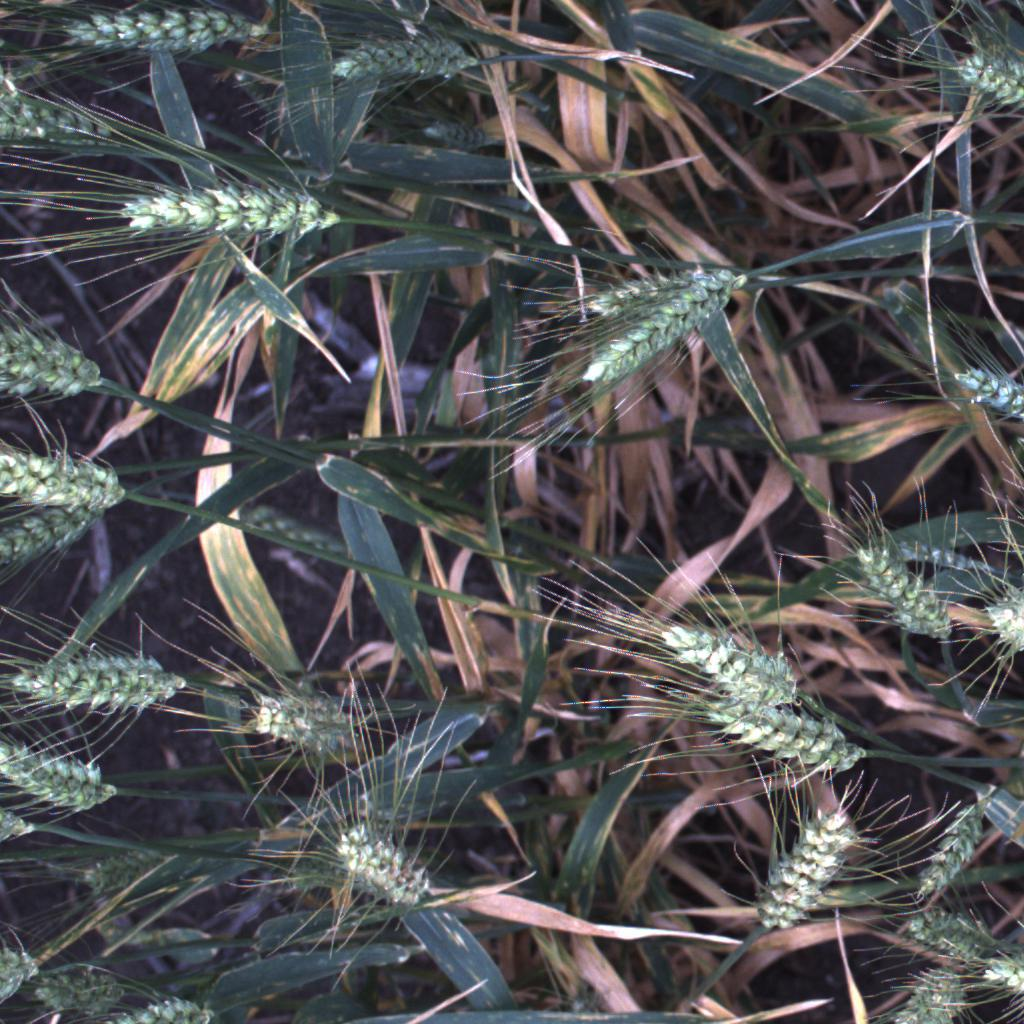0-0: (568, 268, 756, 393), (101, 173, 354, 246), (37, 0, 291, 72), (651, 606, 812, 713), (1, 636, 198, 720), (690, 687, 874, 773), (0, 302, 125, 421), (318, 814, 447, 922), (838, 536, 961, 648), (758, 805, 856, 935), (0, 435, 139, 524), (569, 262, 758, 325), (318, 27, 507, 86), (236, 680, 377, 758), (0, 732, 128, 817), (892, 889, 1024, 964), (23, 949, 142, 1023), (0, 93, 134, 153), (940, 344, 1024, 439), (0, 494, 112, 565), (947, 33, 1024, 115), (915, 813, 980, 906), (891, 955, 970, 1024), (103, 988, 237, 1024), (962, 945, 1024, 1000), (74, 851, 162, 888), (982, 591, 1024, 650), (424, 122, 483, 148)
